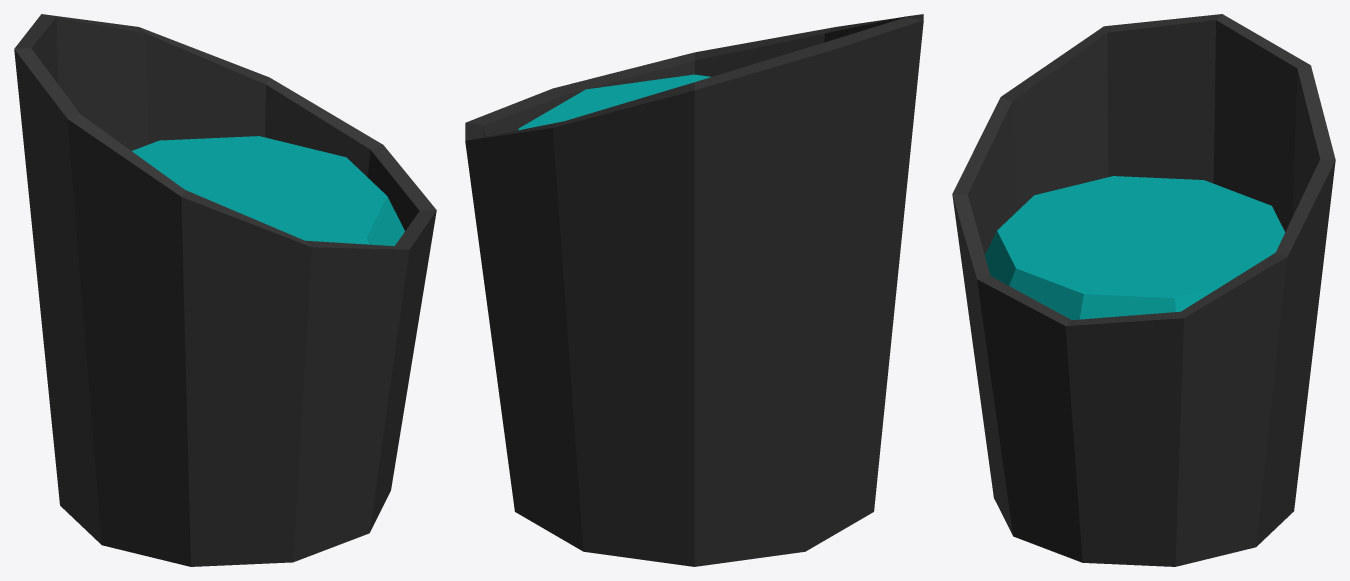
The model's file is SM_balcony_korgfåtölj.fbx.
3 renders of one model, left to right at view 1: azimuth 30°, elevation 25°; view 2: azimuth 150°, elevation 25°; view 3: azimuth 270°, elevation 25°, orthographic. The views are drawn at different scales.
Parts seen in each view (by area): view 1: pCylinder7; view 2: pCylinder7; view 3: pCylinder7.
Part boxes in pixels (x1,y1,x2,y2): pCylinder7: (14,14,436,566); pCylinder7: (465,14,923,566); pCylinder7: (952,14,1335,566).
Size of the model in its own units: 12.6 by 15.34 by 12.81.
